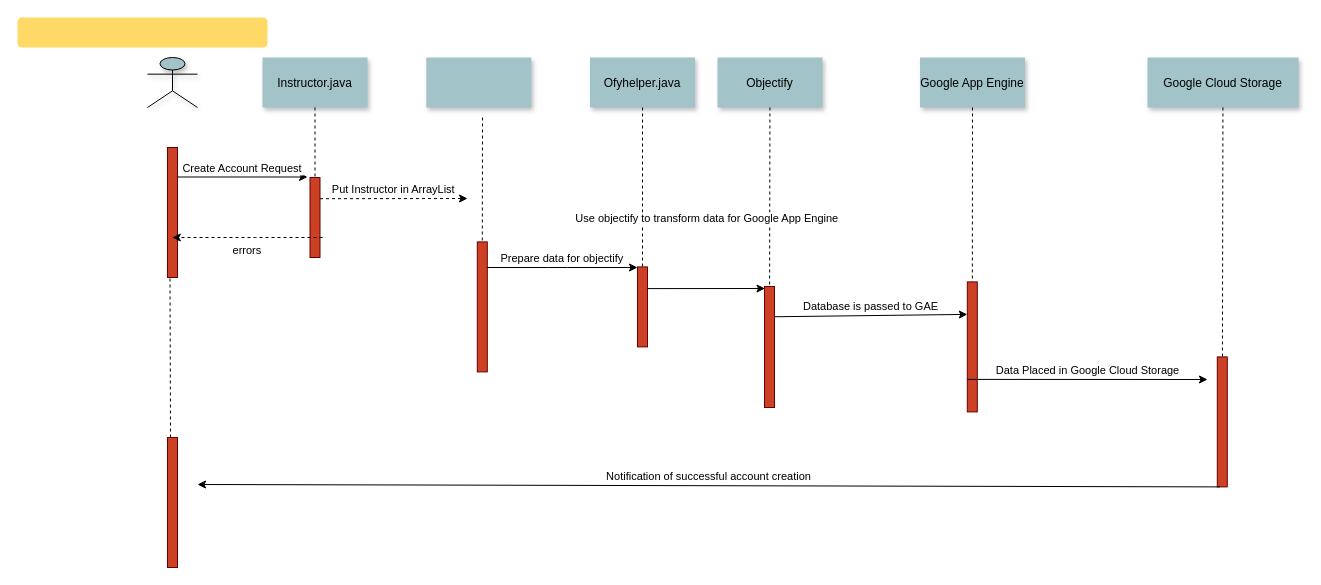
The diagram is 1321 pixels wide and 585 high, and some of its shapes have lost their labels. Each missing label, with the centre of its shape:
"Account Creation Sequence Diagram" belongs at pixel 142 32.
"Instructor" belongs at pixel 173 83.
"InstructorsDB.java" belongs at pixel 479 83.
